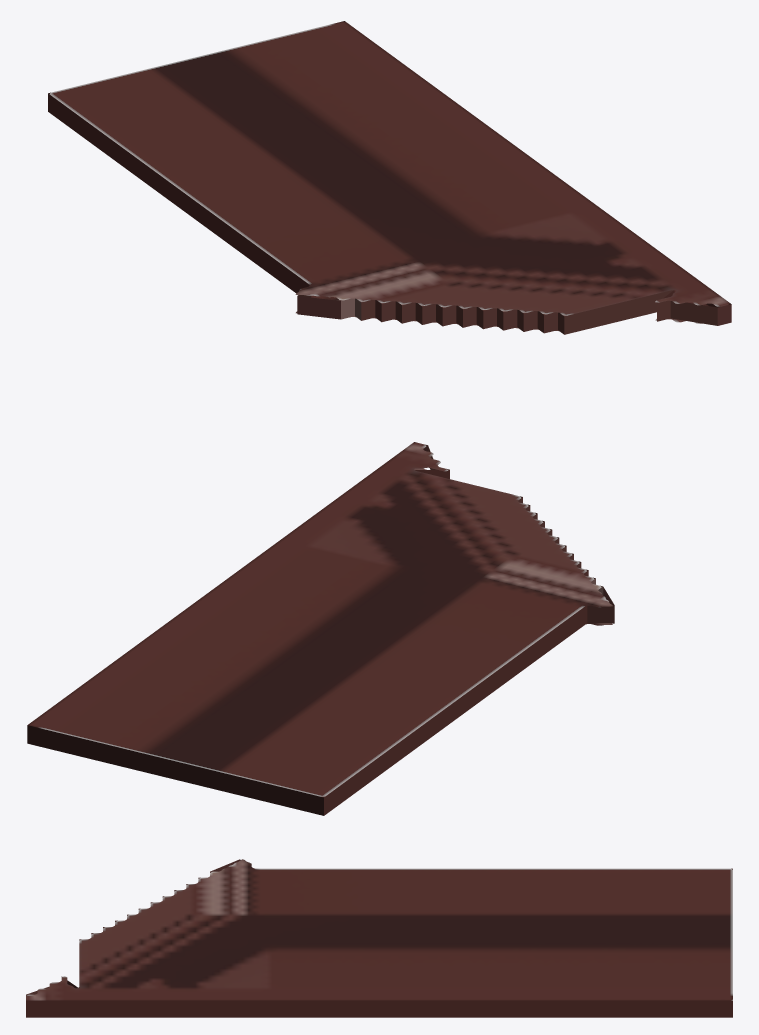
The model's file is pz_native_location_community_church_small_01_211_frame.obj.
3 renders of one model, top to bottom at view 1: azimuth 30°, elevation 25°; view 2: azimuth 150°, elevation 25°; view 3: azimuth 270°, elevation 25°, orthographic. The views are drawn at different scales.
Parts seen in each view (by area): view 1: pz_native_location_community_church_small_01_211_frame; view 2: pz_native_location_community_church_small_01_211_frame; view 3: pz_native_location_community_church_small_01_211_frame.
Part boxes in pixels (<box>): pz_native_location_community_church_small_01_211_frame: <box>48,21,731,334</box>; pz_native_location_community_church_small_01_211_frame: <box>27,442,614,815</box>; pz_native_location_community_church_small_01_211_frame: <box>26,859,732,1017</box>.
Size of the model in its own units: 0.75 by 0.04 by 1.57.
1 material, 1 textured.
